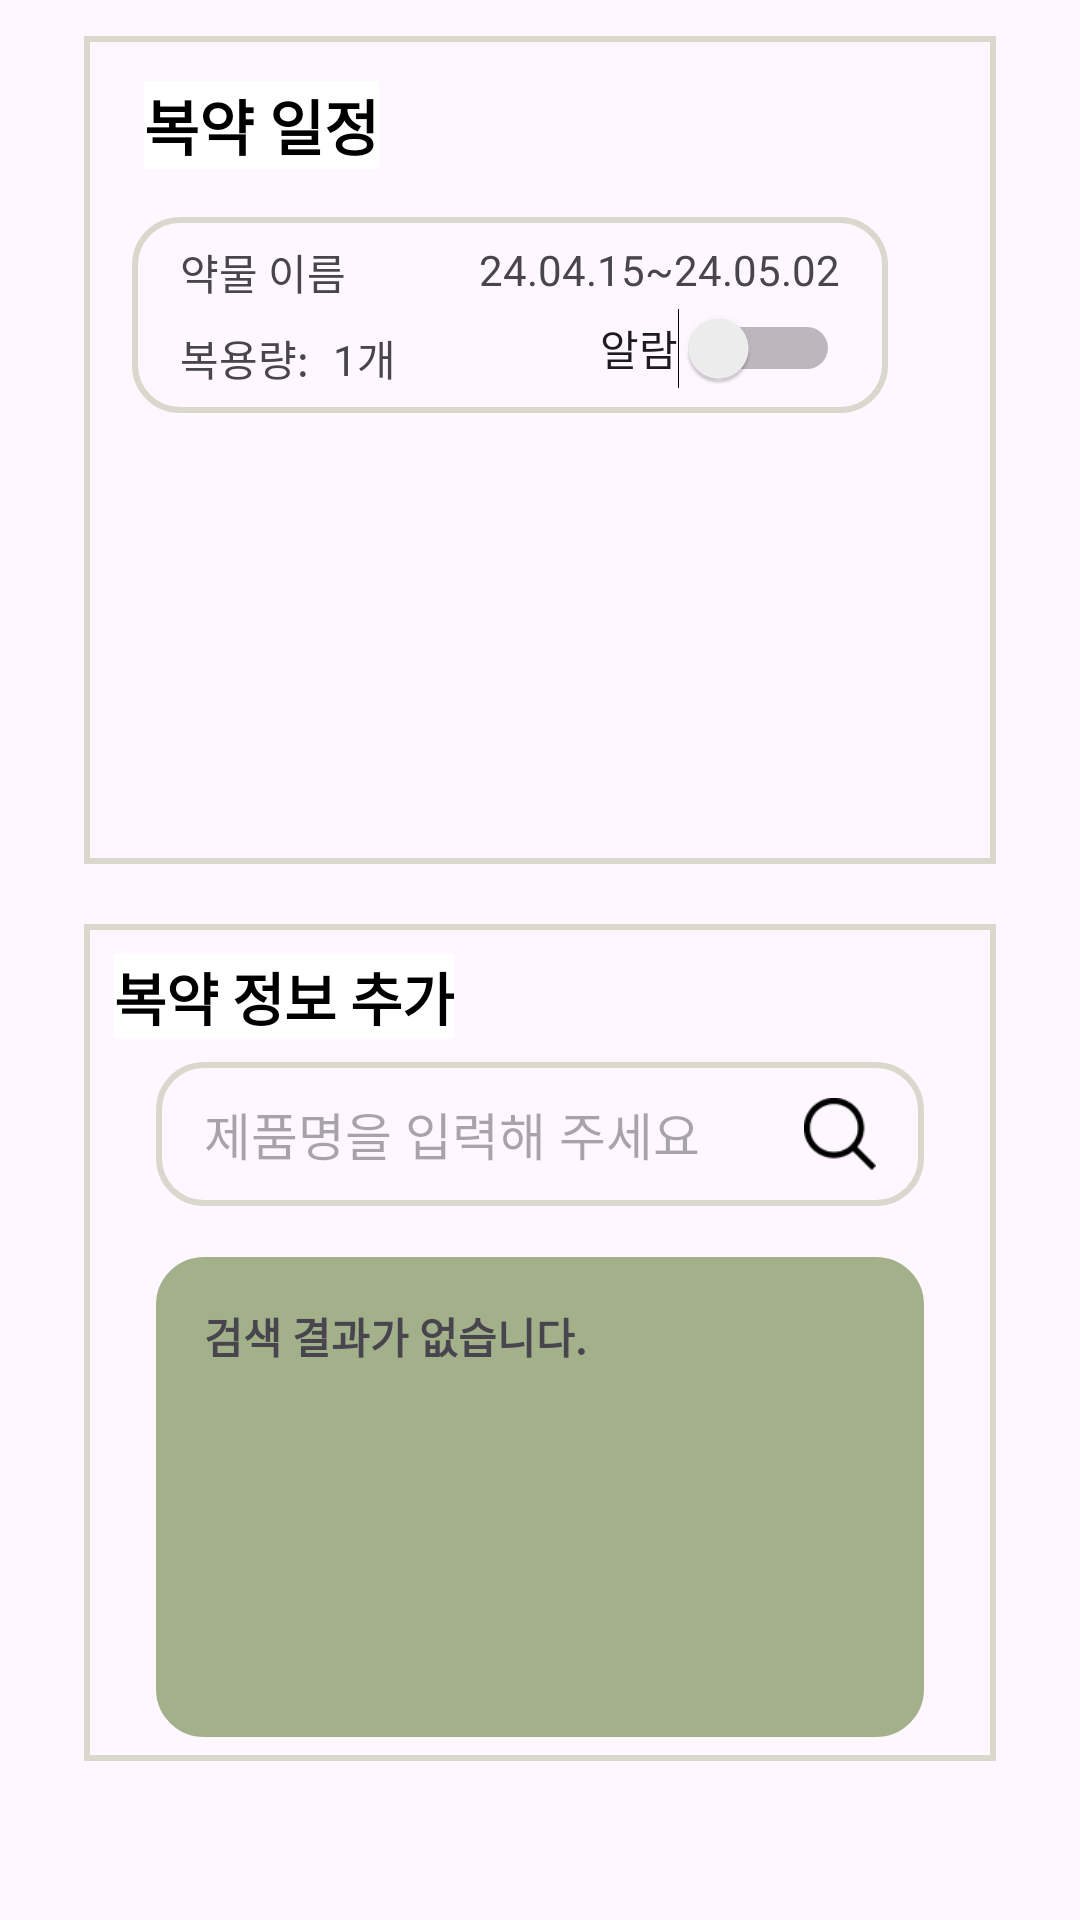

Icon bounding boxes for this 1080×1920 phone screenshot, format (x1, y1, x2, y2):
dosage search: (804, 1098, 876, 1170)
